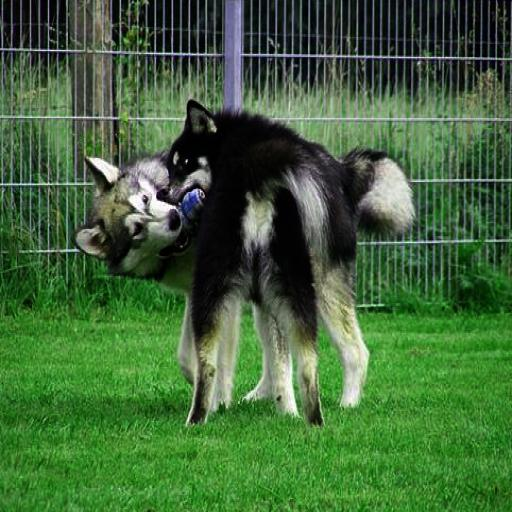dog_face: (81, 154, 187, 280), (156, 99, 226, 212)
